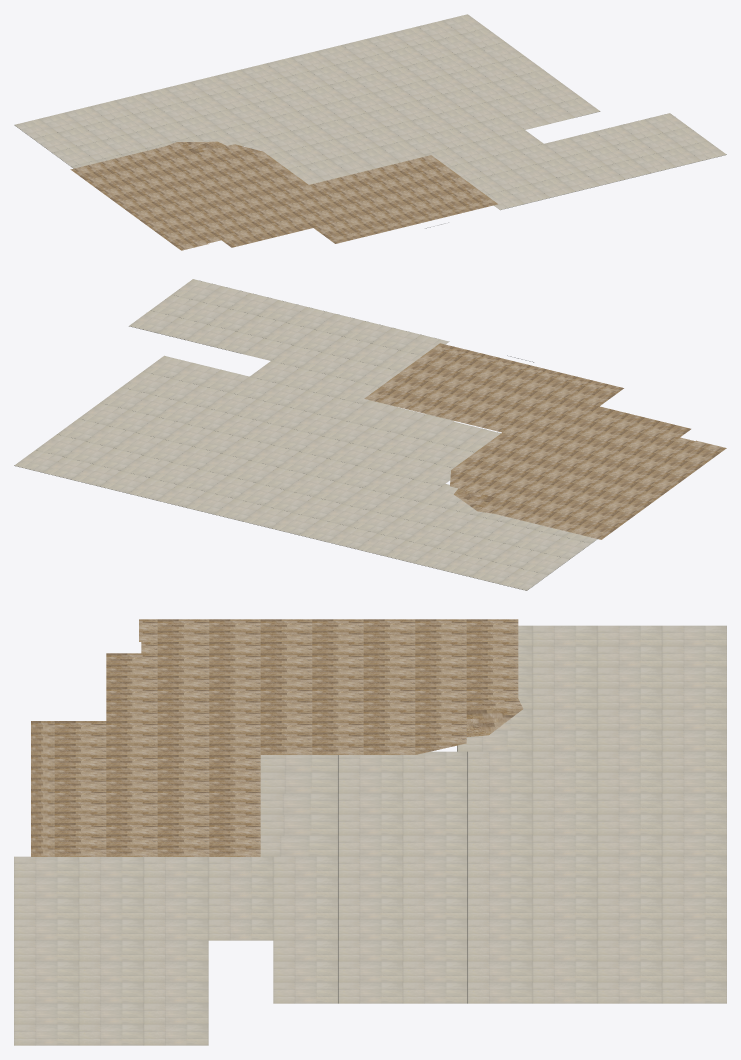
File: groundFloor.fbx
The picture shows the model from 3 angles, top to bottom: view 1: azimuth 30°, elevation 25°; view 2: azimuth 150°, elevation 25°; view 3: azimuth 270°, elevation 25°; orthographic projection. The views are drawn at different scales.
Parts seen in each view (by area): view 1: GroundFloorRoom, Developer'sRoomFloor; view 2: GroundFloorRoom, Developer'sRoomFloor; view 3: GroundFloorRoom, Developer'sRoomFloor.
Part boxes in pixels (left/top/right/bottom): GroundFloorRoom: left=14, top=14, right=726, bottom=228; Developer'sRoomFloor: left=70, top=141, right=497, bottom=250; GroundFloorRoom: left=14, top=279, right=597, bottom=590; Developer'sRoomFloor: left=364, top=343, right=726, bottom=539; GroundFloorRoom: left=14, top=625, right=726, bottom=1045; Developer'sRoomFloor: left=31, top=619, right=523, bottom=856.
Bounding box in the file's own units: 1710 × 4.89 × 1215.
